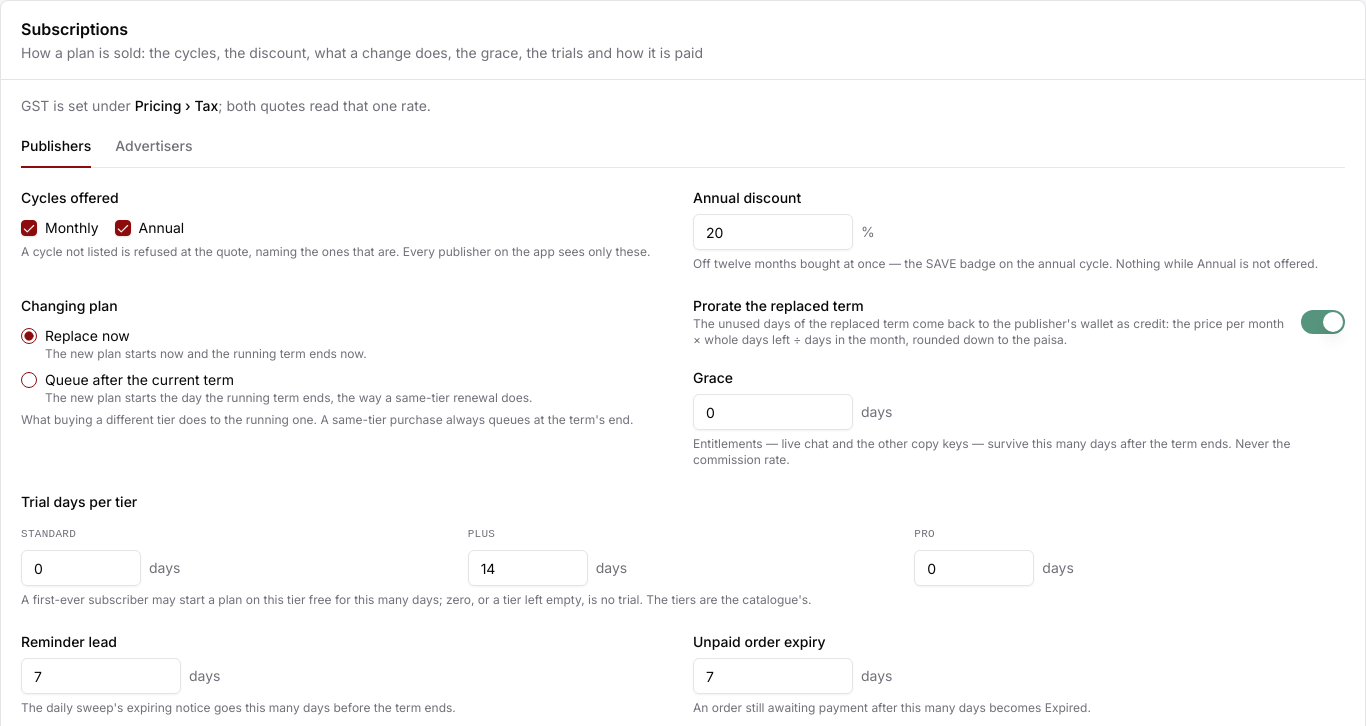
Test: the proration switch › is live under Replace now and disabled under Queue after the current term, keeping its value
The image size is (1366, 726).
Expected: the switch with test id "subscriptions.publisher.prorateOnChange" is enabled, [1301,310,1345,334]
Expected: the switch with test id "subscriptions.publisher.prorateOnChange" is checked, [1301,310,1345,334]
Click the radio button named "Queue after the current term" next to "Queue after the current term".
click(29, 380)  # box [21,372,37,388]
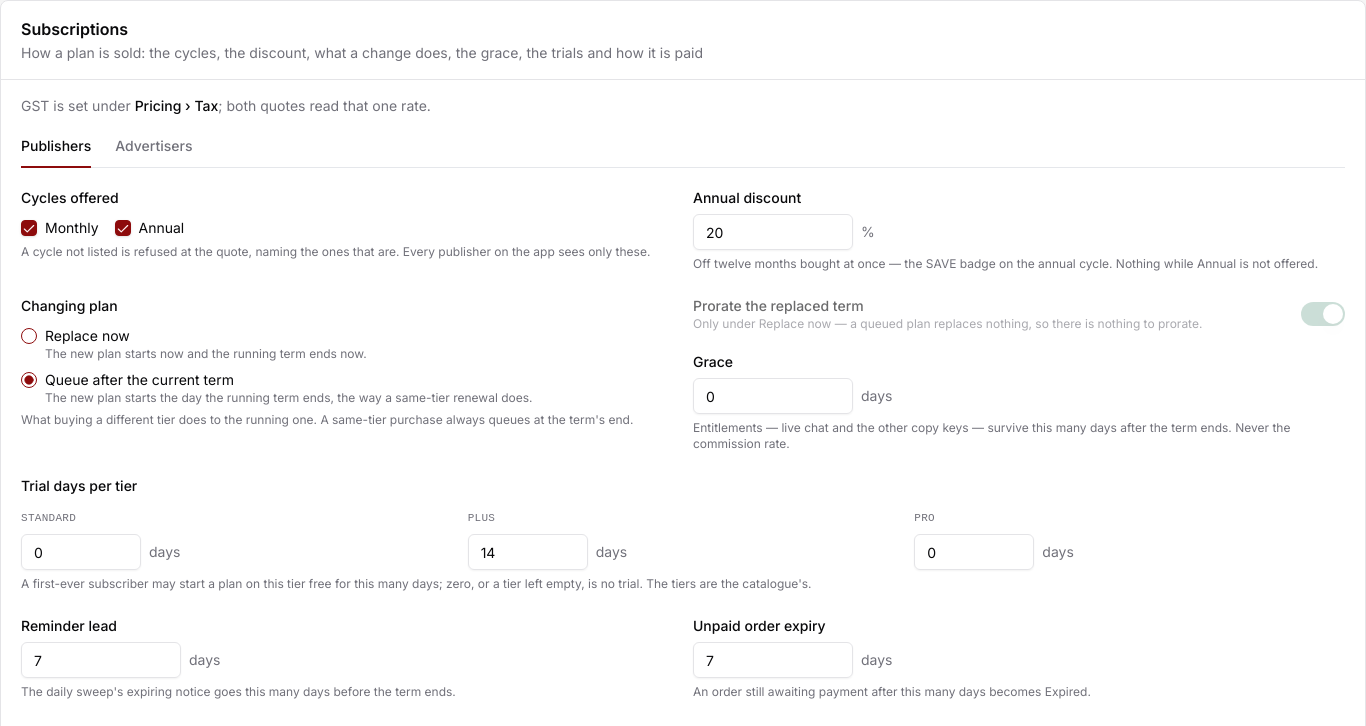
Expected: the switch with test id "subscriptions.publisher.prorateOnChange" is checked, [1301,302,1345,326]
Now the switch with test id "subscriptions.publisher.prorateOnChange" is disabled, box [1301,302,1345,326]
Now the text "a queued plan replaces nothing" is shown, box [693,316,1202,331]
Click the 1st radio button named "Replace now".
click(29, 336)  # box [21,328,37,344]
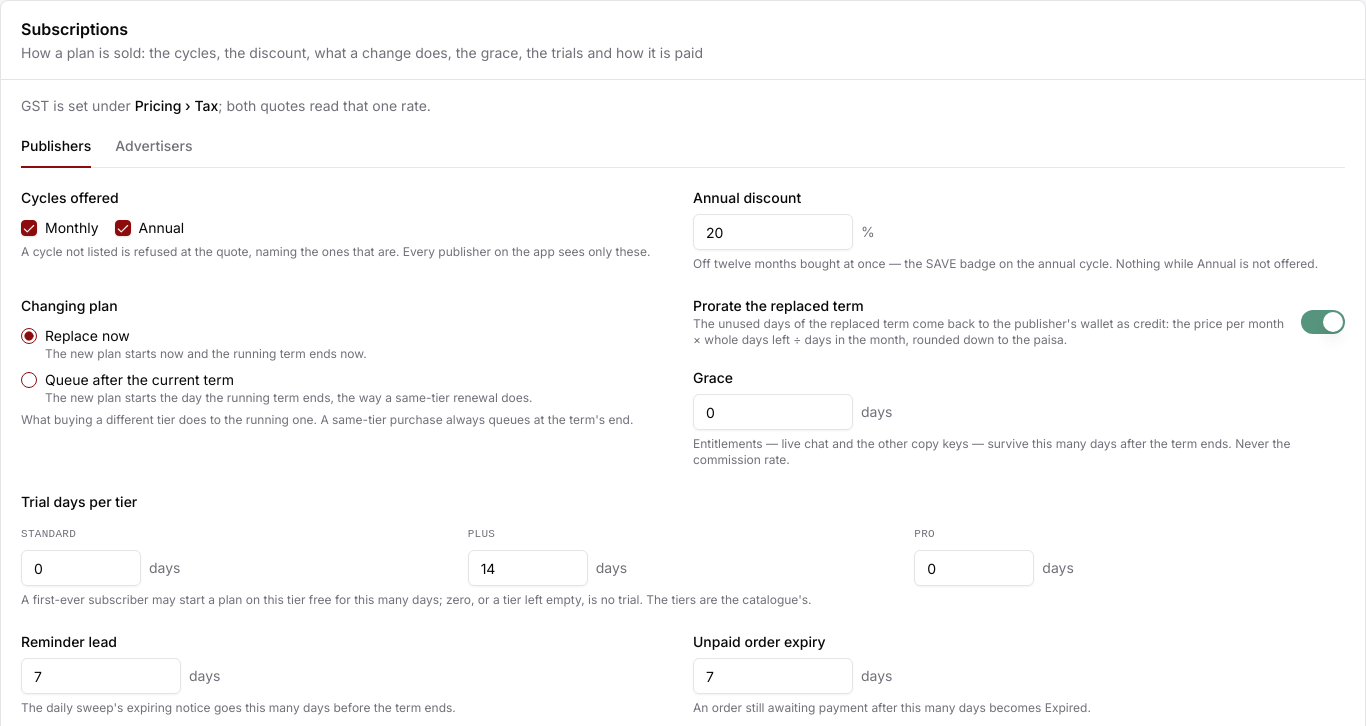
Now the switch with test id "subscriptions.publisher.prorateOnChange" is enabled, box [1301,310,1345,334]
